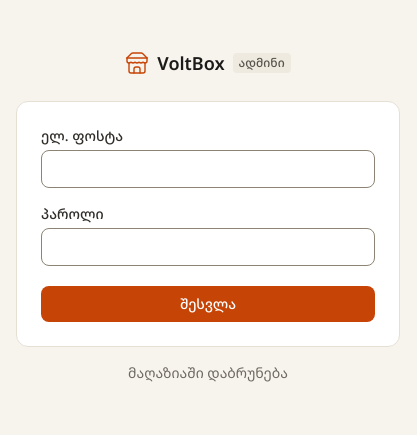
Test case: AdminLogin › tells a customer who signs in here that they are not an administrator
The width and height of the screenshot is (417, 435).
Type "boss@voltbox.ge" into the field labelled "ელ. ფოსტა".
click(208, 169); type("boss@voltbox.ge")  # box [41,150,375,188]
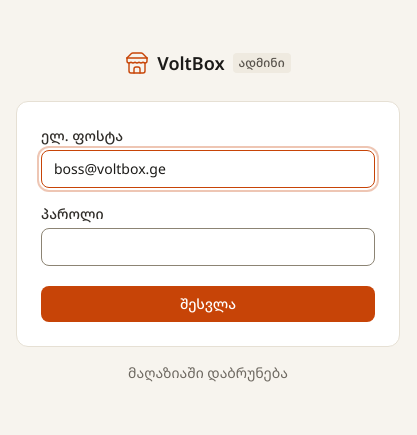
Type "supersecret1" into the password field labelled "პაროლი".
click(208, 247); type("supersecret1")  # box [41,228,375,266]
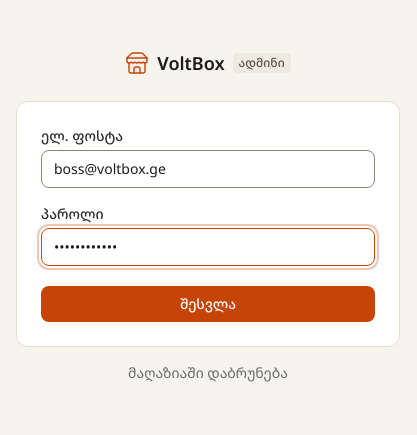
Click the button "შესვლა".
click(208, 304)  # box [41,286,375,322]
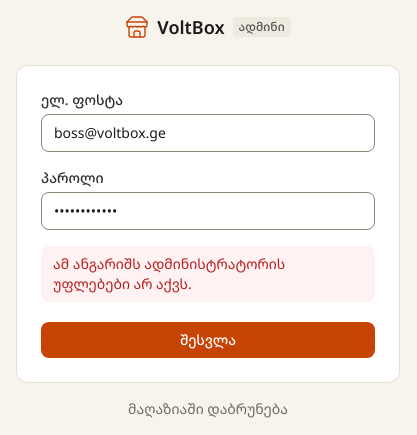
Expected: the message reads "ამ ანგარიშს ადმინისტრატორის უფლებები არ აქვს.", [53,254,285,293]
